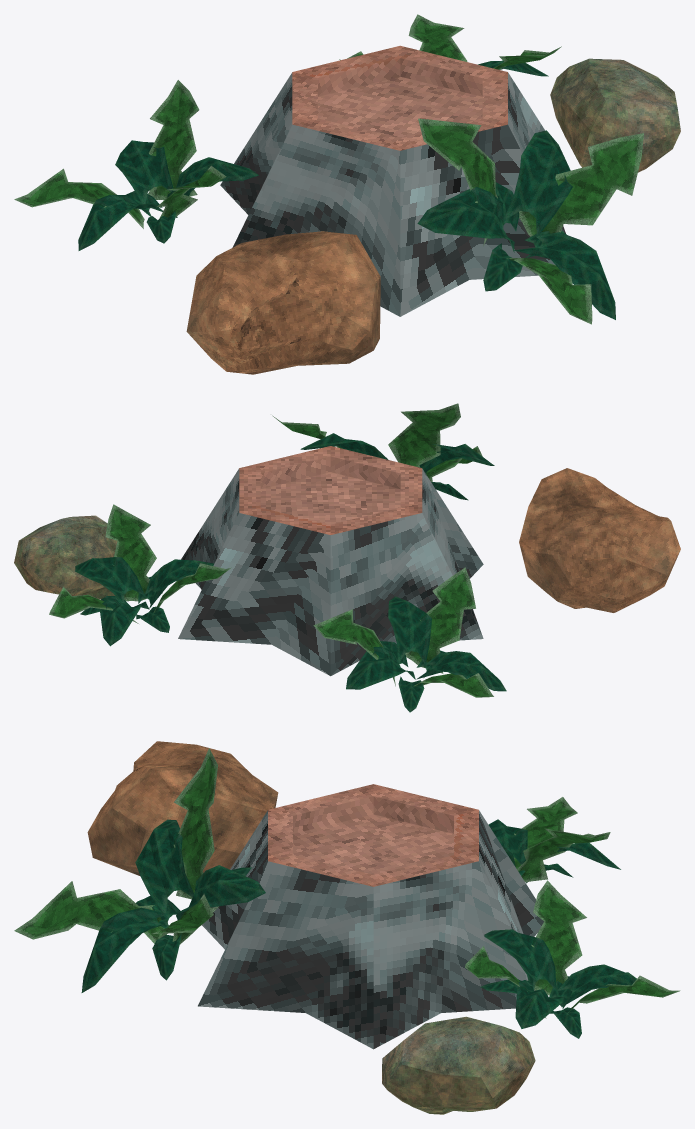
The model's file is prefab_21.glb.
The picture shows the model from 3 angles, top to bottom: view 1: azimuth 30°, elevation 25°; view 2: azimuth 150°, elevation 25°; view 3: azimuth 270°, elevation 25°; orthographic projection. The views are drawn at different scales.
Visible parts, largest first — view 1: PRFB_21; view 2: PRFB_21; view 3: PRFB_21.
Part boxes in pixels (x1,y1,x2,y2): PRFB_21: (14, 14, 680, 374); PRFB_21: (14, 403, 680, 712); PRFB_21: (14, 741, 680, 1114).
Size of the model in its own units: 3.23 by 1.1 by 3.09.
3 materials, 3 textured.
